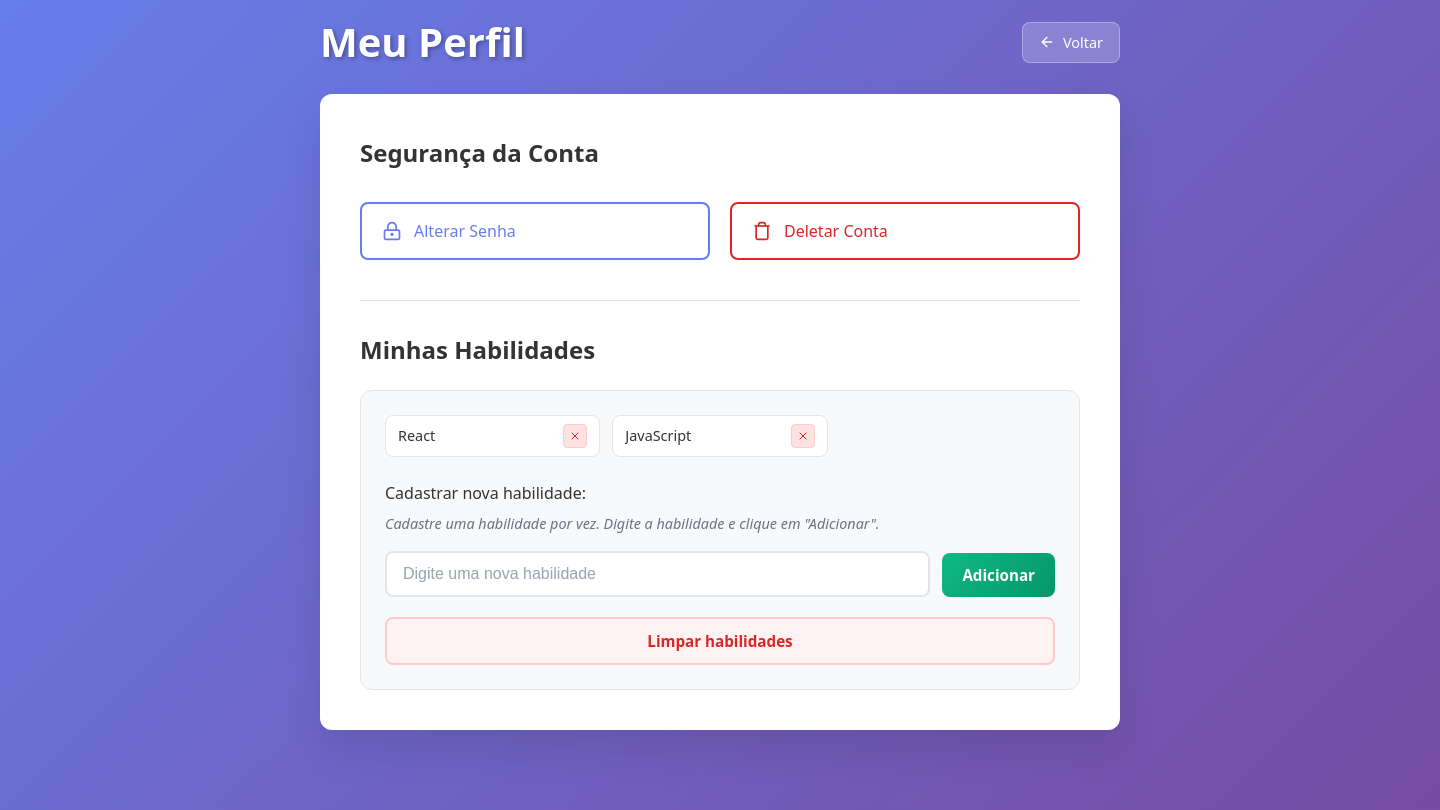
it: Profile - Skills Auto Focus › remove habilidade com sucesso
Check: the text "React" is shown, box [398, 426, 435, 445]
Click the button without text next to "React" at {"x": 575, "y": 436}, box [563, 424, 587, 448]
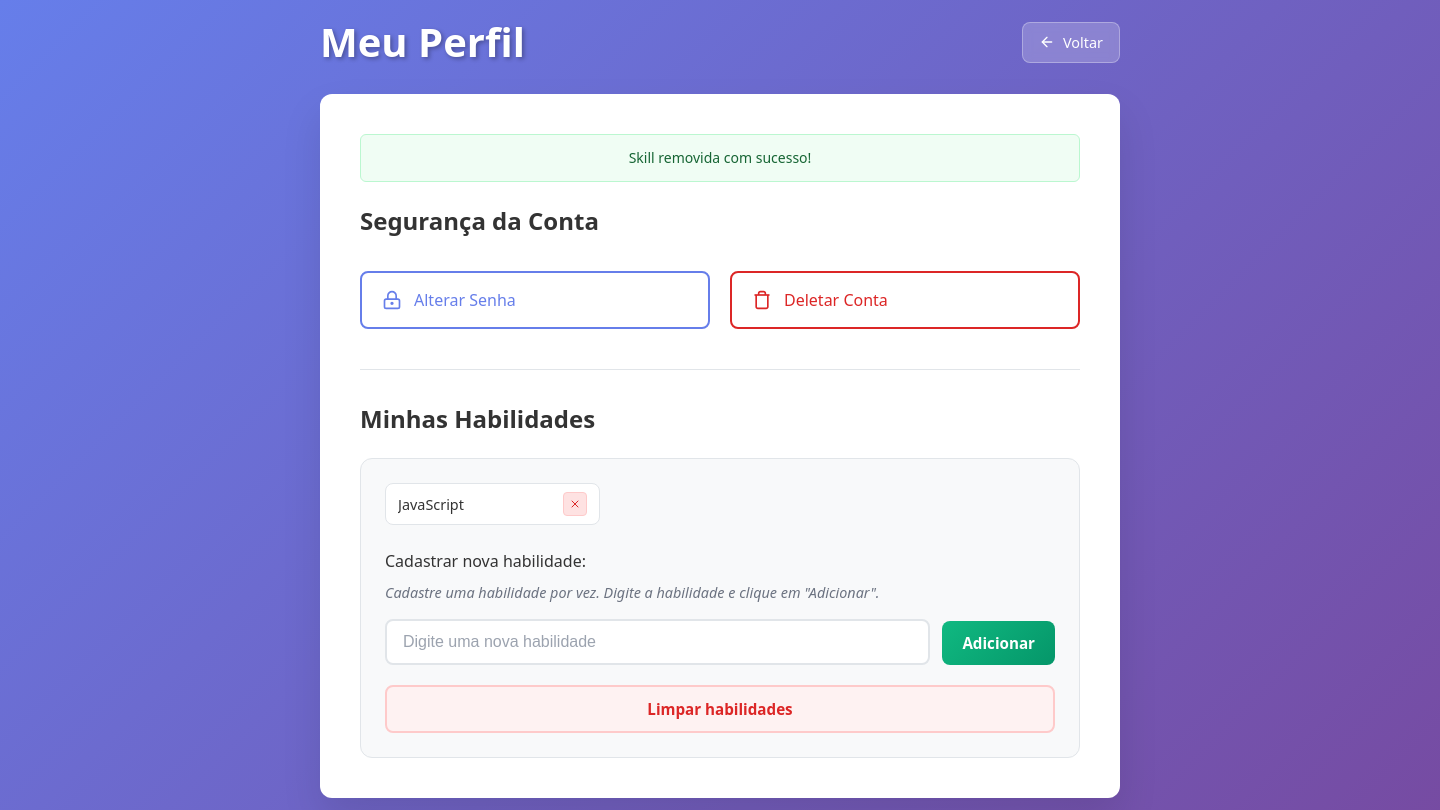
Check: the text "Skill removida com sucesso!" is shown, box [360, 134, 1080, 182]
